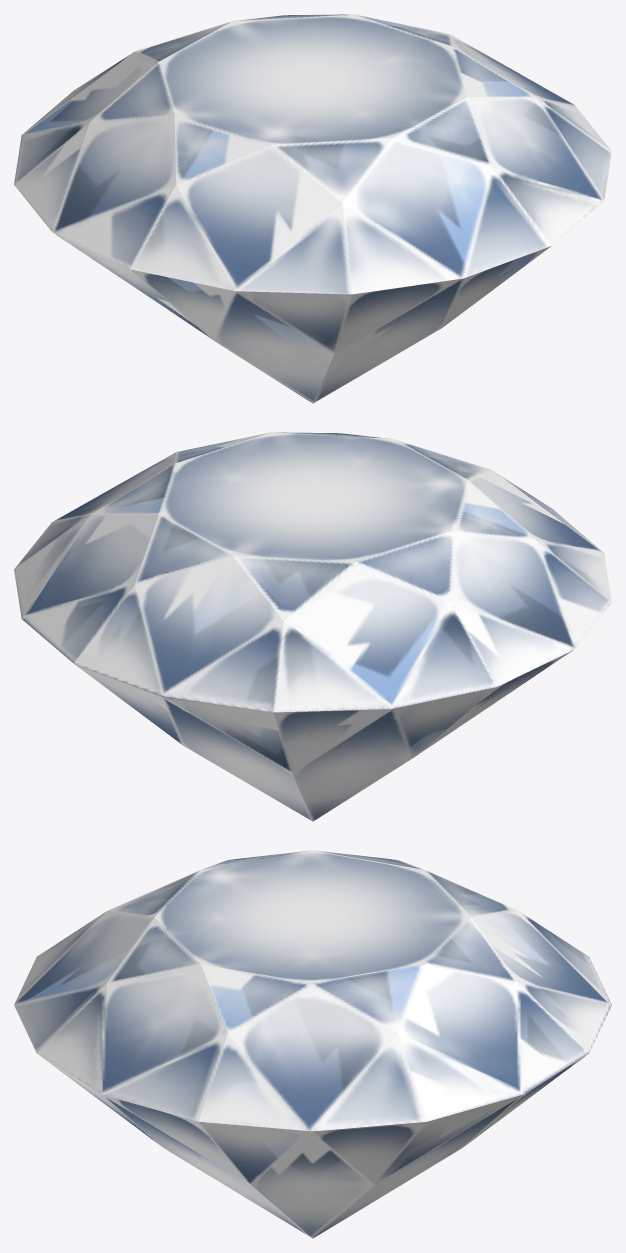
File: diamond.DAE
3 renders of one model, top to bottom at view 1: azimuth 30°, elevation 25°; view 2: azimuth 150°, elevation 25°; view 3: azimuth 270°, elevation 25°, orthographic.
Parts seen in each view (by area): view 1: Diamond_PIVOT; view 2: Diamond_PIVOT; view 3: Diamond_PIVOT.
Boxes of the visible parts, x1,y1,x2,y2 form: Diamond_PIVOT: (14,14,611,403); Diamond_PIVOT: (14,432,611,821); Diamond_PIVOT: (14,850,611,1238).
Size of the model in its own units: 141 by 141 by 83.4.
1 material, 1 textured.
